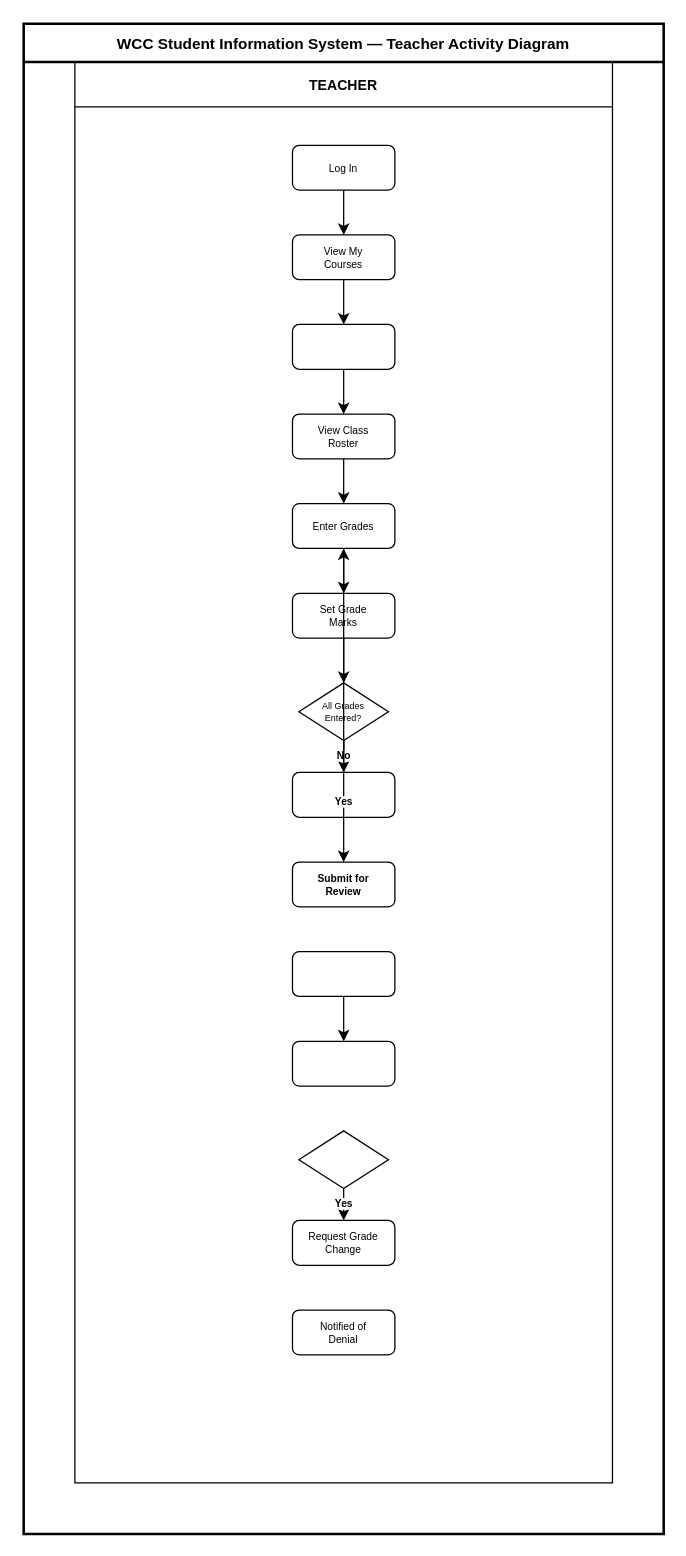
Image size: 686x1556. Some labels were removed from this diagram. The shapes that lost their labels are listed below. From the top down, each one's centre as x and y in pixels, then its label:
At (343,346): "Open Subject".
At (343,794): "Continue Entering".
At (343,973): "Fix Grades".
At (343,1063): "Resubmit".
At (343,1159): "Grade Change Needed?".
